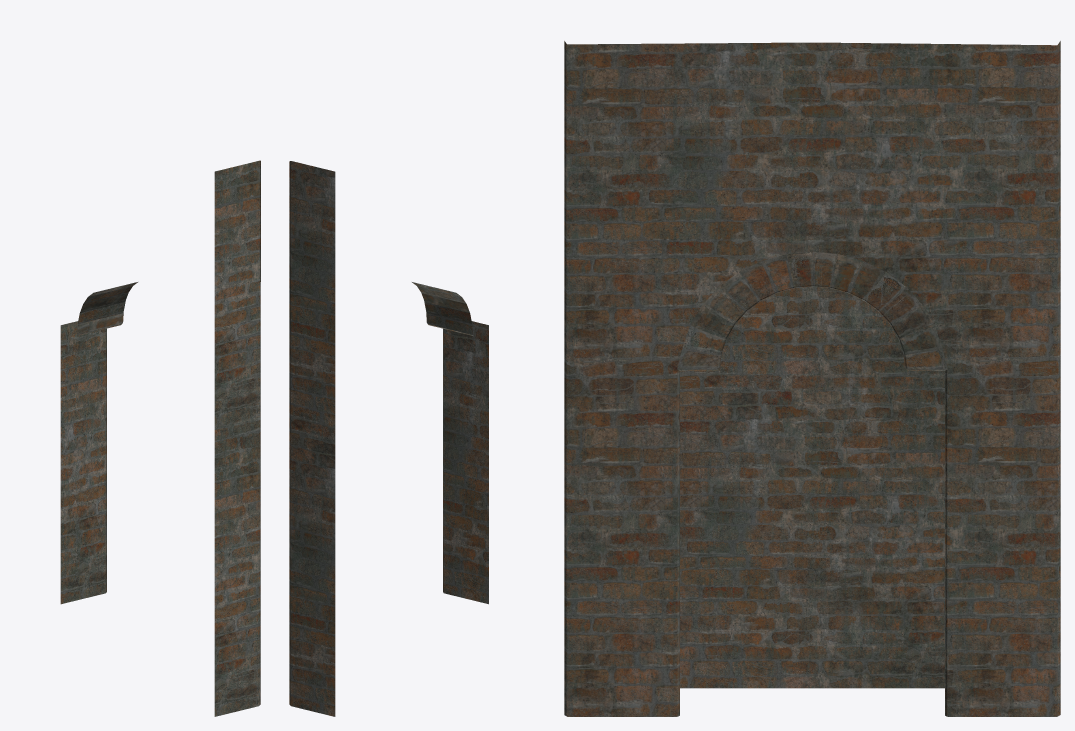
Rendered from SM_Wall_02.gltf.
The picture shows the model from 3 angles, left to right: view 1: azimuth 30°, elevation 25°; view 2: azimuth 150°, elevation 25°; view 3: azimuth 270°, elevation 25°; orthographic projection. The views are drawn at different scales.
Visible parts, largest first — view 1: SM_Wall_02_LOD0; view 2: SM_Wall_02_LOD0; view 3: SM_Wall_02_LOD0.
Boxes of the visible parts, x1,y1,x2,y2 form: SM_Wall_02_LOD0: [60, 160, 260, 716]; SM_Wall_02_LOD0: [289, 161, 488, 716]; SM_Wall_02_LOD0: [564, 41, 1060, 716].
Size of what is drawn, in the model's own units: 0.5161 by 5.69 by 3.79.
